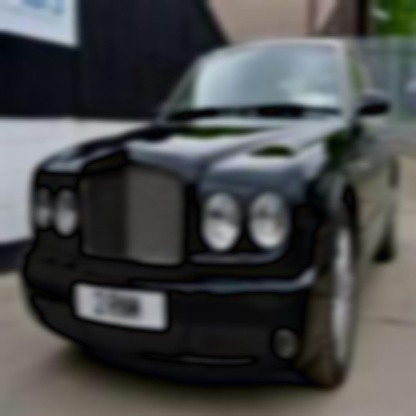Vehicle: (19, 35, 401, 391)
